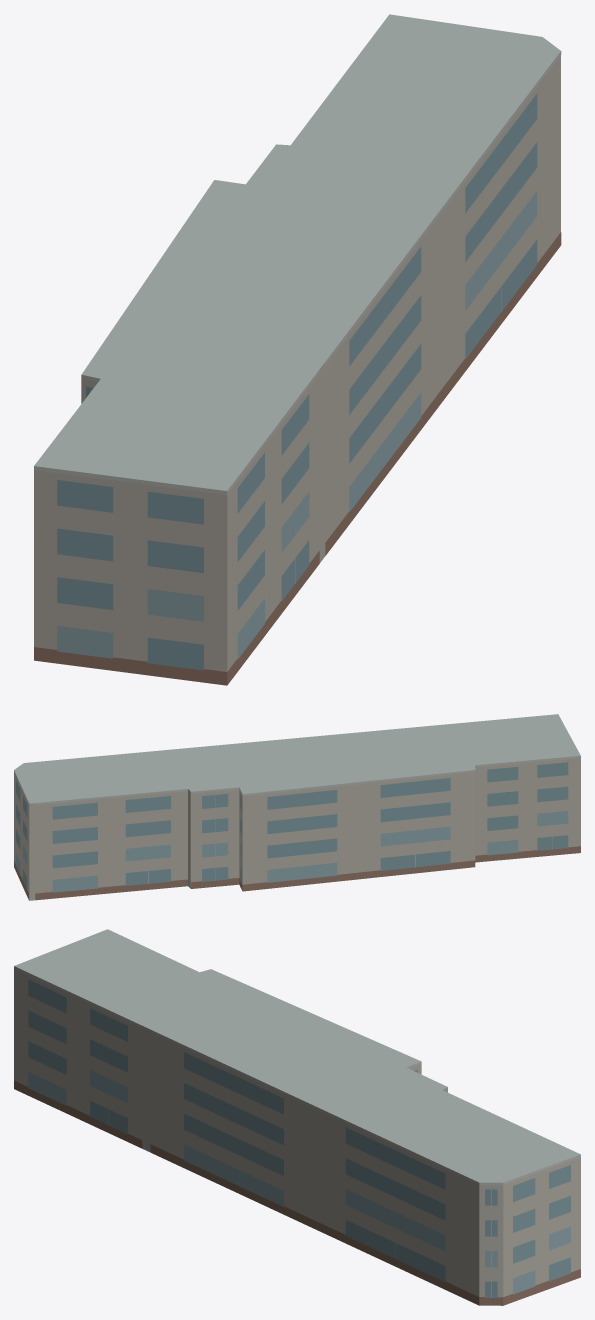
File: survey-upis-32834750.glb
3 renders of one model, top to bottom at view 1: azimuth 30°, elevation 25°; view 2: azimuth 150°, elevation 25°; view 3: azimuth 270°, elevation 25°, orthographic. The views are drawn at different scales.
Parts seen in each view (by area): view 1: survey-upis-32834750.tmp; view 2: survey-upis-32834750.tmp; view 3: survey-upis-32834750.tmp.
Part boxes in pixels (<box>): survey-upis-32834750.tmp: <box>34,14,561,685</box>; survey-upis-32834750.tmp: <box>14,714,580,900</box>; survey-upis-32834750.tmp: <box>14,929,580,1305</box>.
Size of the model in its own units: 51.71 by 11.7 by 48.85.
